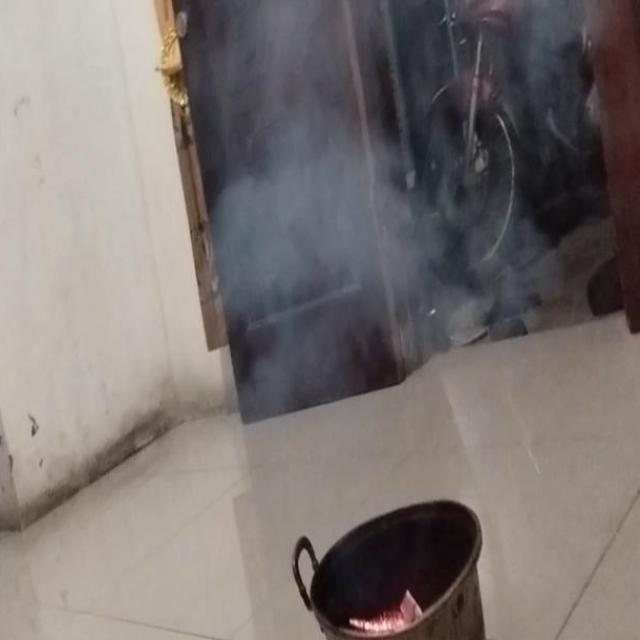fire: (202, 0, 576, 353)
